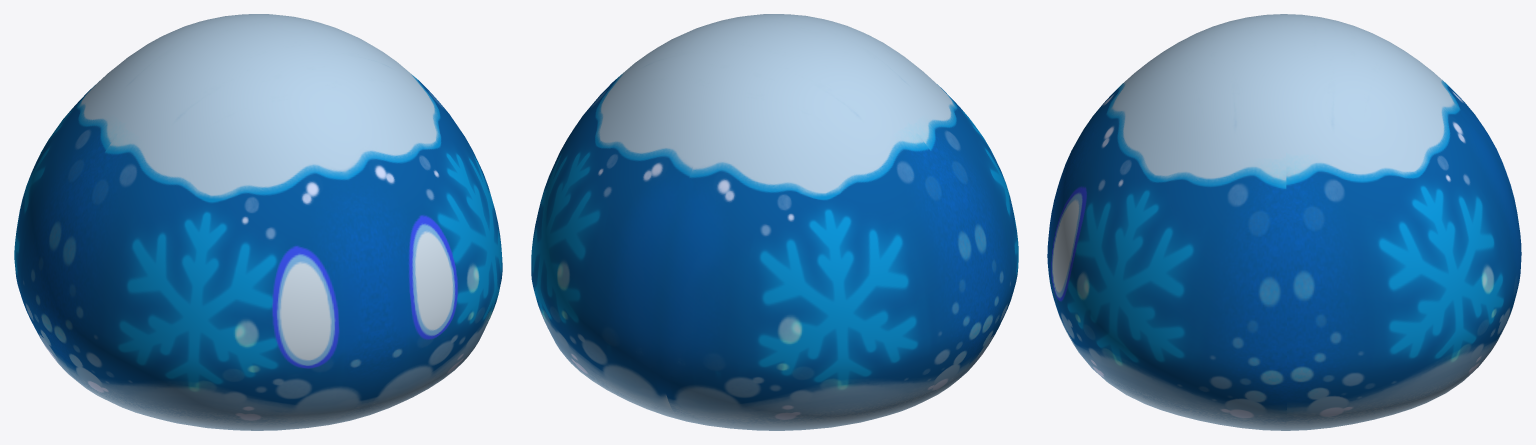
File: Slime_Enemy_SlimeIdle.fbx
The picture shows the model from 3 angles, left to right: view 1: azimuth 30°, elevation 25°; view 2: azimuth 150°, elevation 25°; view 3: azimuth 270°, elevation 25°; orthographic projection.
Visible parts, largest first — view 1: IceSlime; view 2: IceSlime; view 3: IceSlime.
Part boxes in pixels (bbox=[...]): IceSlime: bbox=[14, 14, 502, 430]; IceSlime: bbox=[531, 14, 1018, 430]; IceSlime: bbox=[1047, 14, 1521, 430].
Bounding box in the file's own units: 25.15 × 20.39 × 25.03.
1 material, 1 textured.
